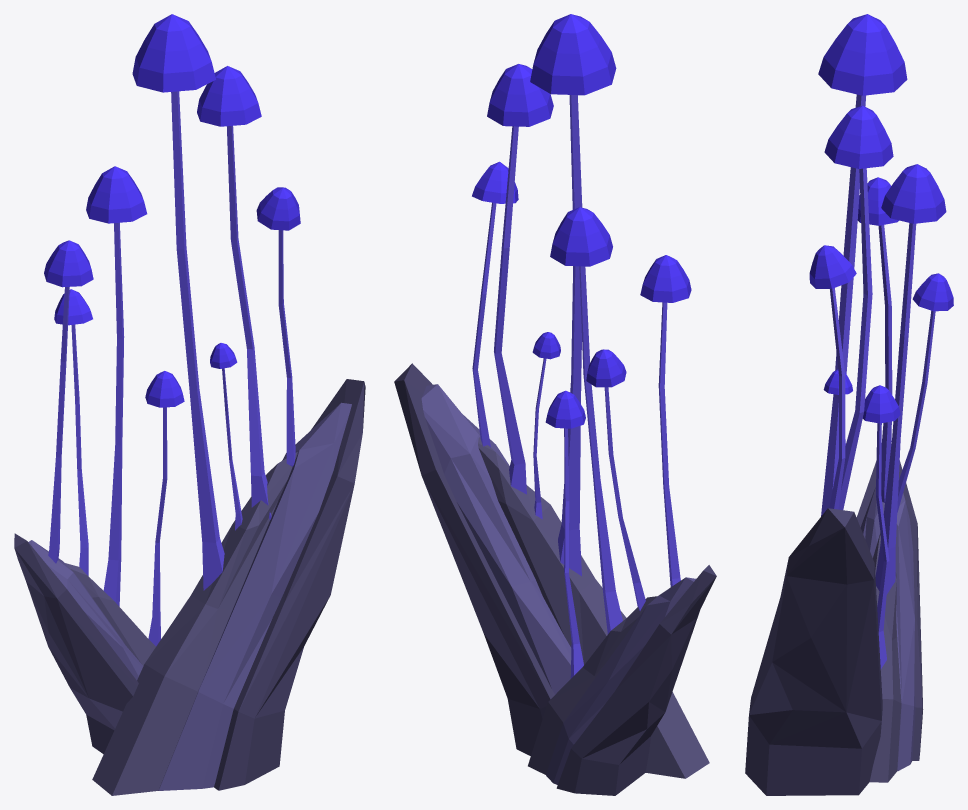
The model's file is VL_Plant02.fbx.
3 renders of one model, left to right at view 1: azimuth 30°, elevation 25°; view 2: azimuth 150°, elevation 25°; view 3: azimuth 270°, elevation 25°, orthographic. The views are drawn at different scales.
Visible parts, largest first — view 1: VL_Plant02; view 2: VL_Plant02; view 3: VL_Plant02.
Part boxes in pixels (box(x1,y1,x2,y2)): VL_Plant02: box(14, 14, 365, 795); VL_Plant02: box(394, 14, 716, 795); VL_Plant02: box(745, 14, 953, 795).
Size of the model in its own units: 117 by 246 by 61.73.
1 material, 1 textured.
